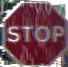Stop: (2, 2, 67, 66)
